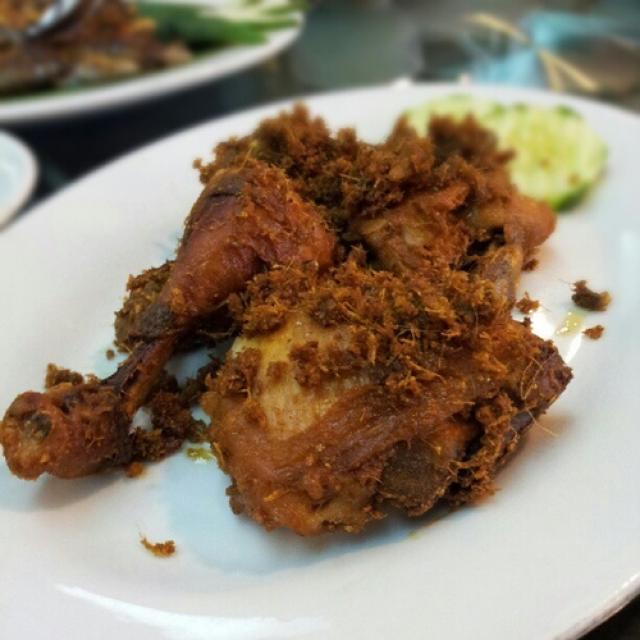鸡肉料理 含炸鸡: (16, 72, 602, 576)
